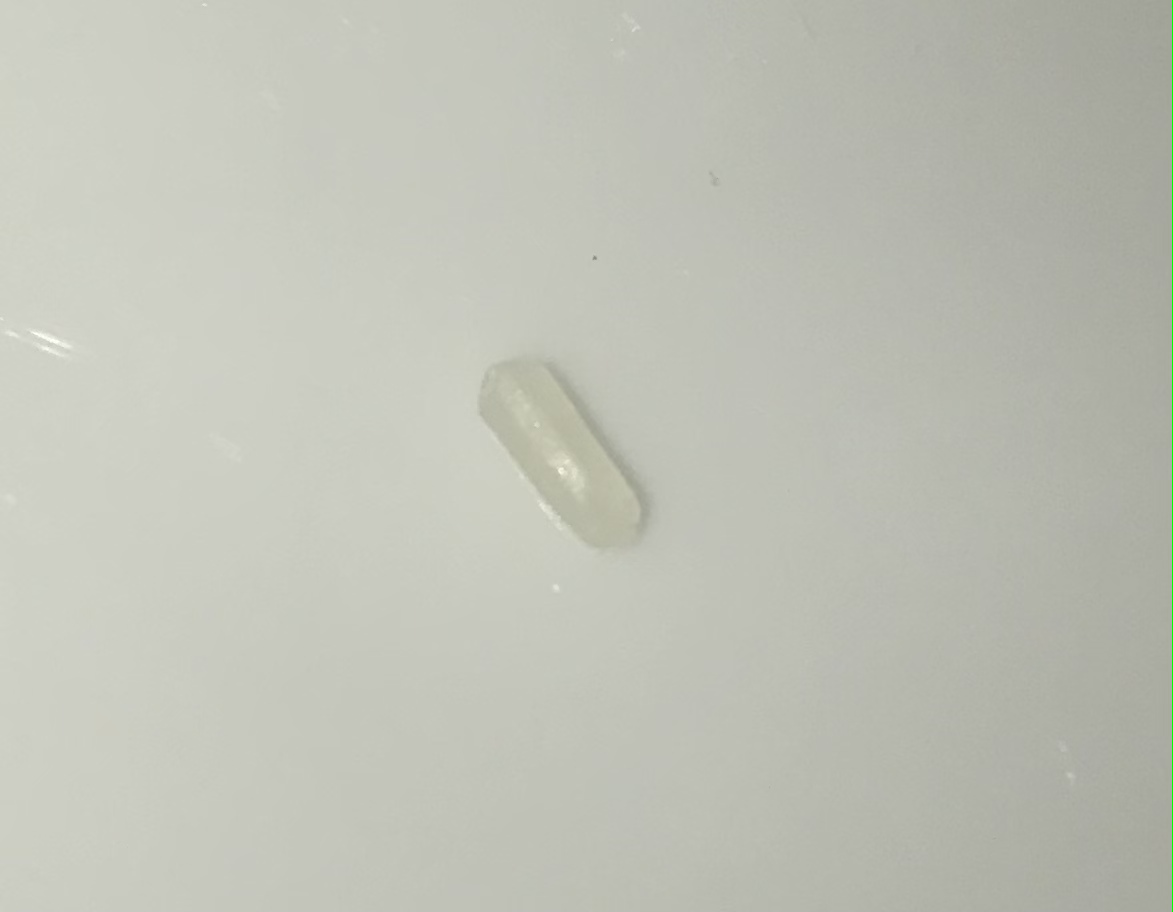Gao Tam: (450, 337, 657, 562)
